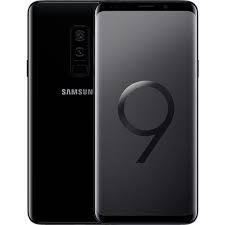Smartphone: (96, 5, 198, 225), (31, 0, 100, 225)
